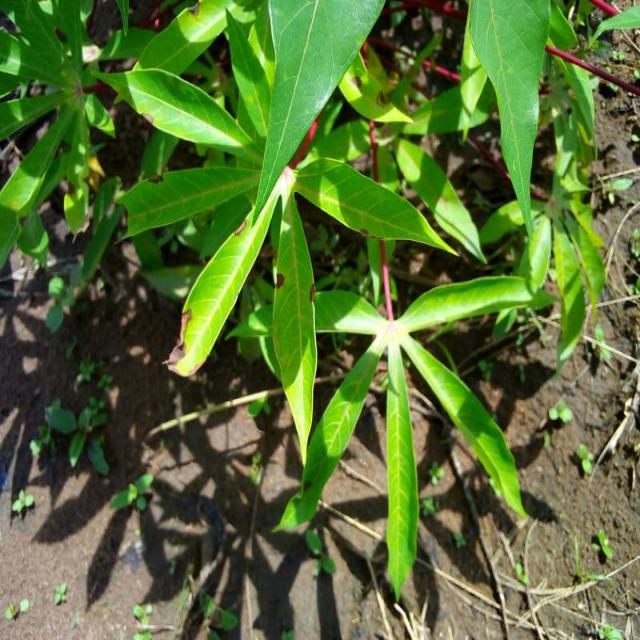cassava leaf: (252, 0, 387, 221), (173, 174, 286, 377), (467, 0, 553, 238), (272, 188, 318, 467)
